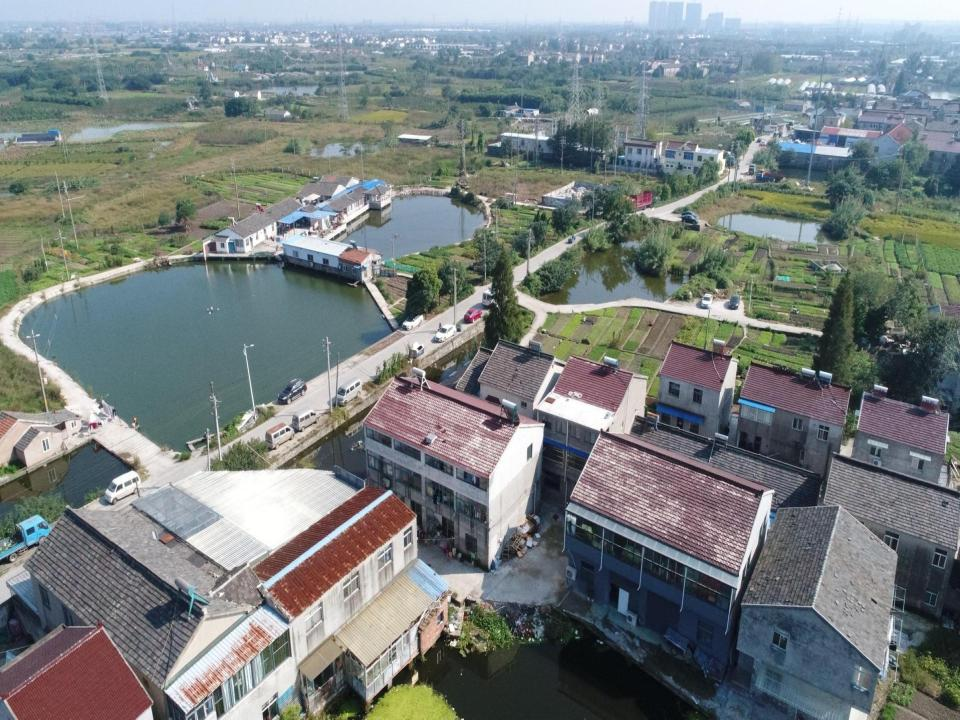car: (277, 377, 307, 404), (402, 310, 423, 331), (434, 323, 456, 343), (464, 308, 482, 324), (701, 292, 713, 308), (729, 294, 741, 309), (681, 214, 698, 224), (681, 210, 697, 220)
truck: (0, 514, 52, 560), (624, 190, 652, 213)
van: (104, 470, 142, 504), (264, 422, 294, 450), (277, 377, 307, 404), (335, 377, 362, 406), (292, 409, 320, 432), (482, 285, 505, 309)
